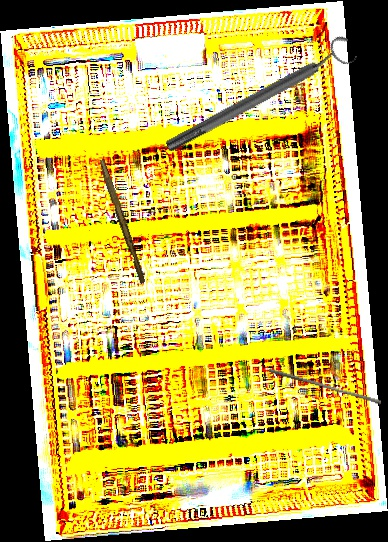Fixation Ring: (159, 32, 360, 161)
Pusher: (267, 368, 383, 405)
Scalpel Handle: (95, 158, 149, 285)
